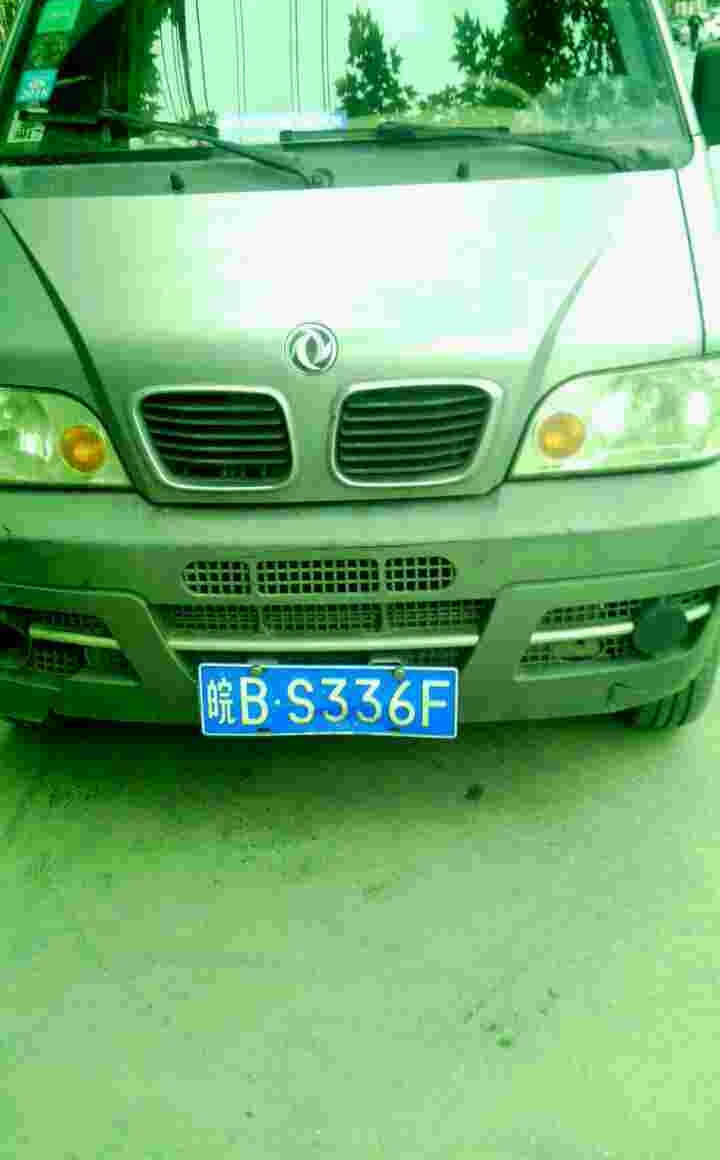car: (196, 652, 469, 747)
